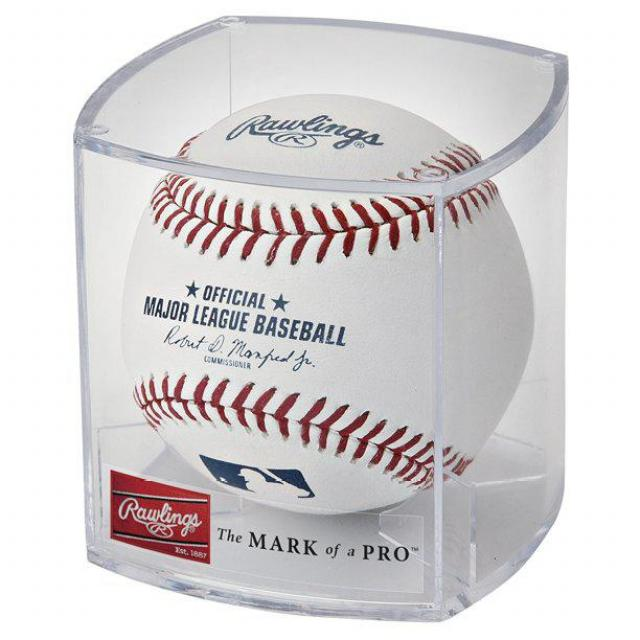baseball: (118, 94, 531, 514)
